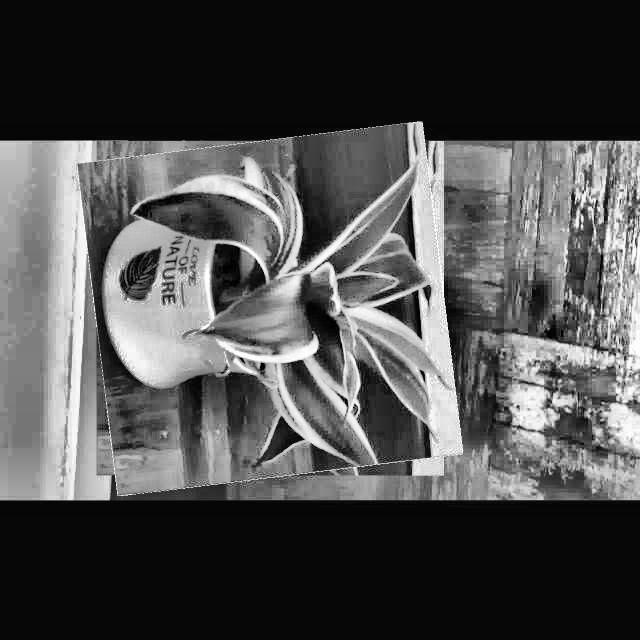plants: (86, 130, 454, 486)
